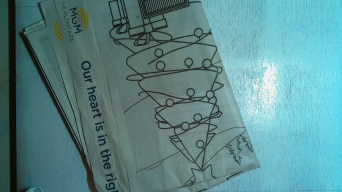p: (22, 1, 272, 188)
